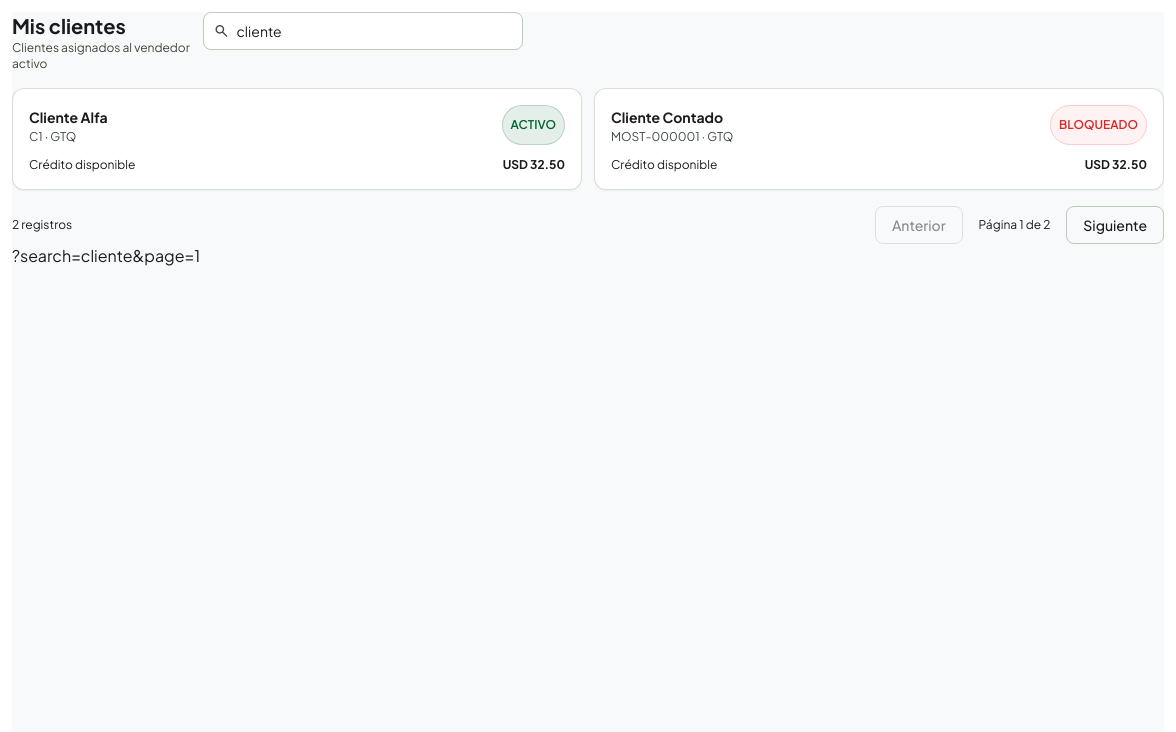
Test: ClientsPage search and customer details › shows loading addresses inside the selected customer
What coordinates should you click on to do the following:
click the button "Cliente Alfa C1 · GTQ ACTIVO Crédito disponible USD 32.50"
I would click on:
 (68, 117)
Its box is [12, 88, 582, 190].
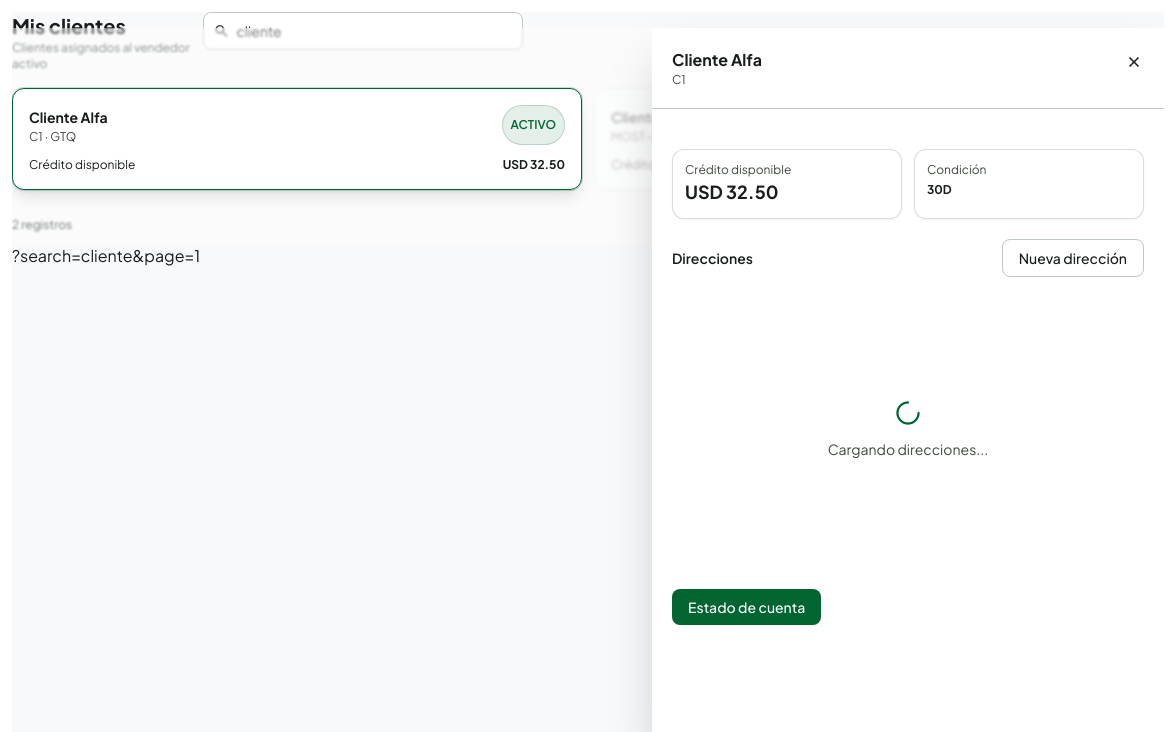
Now the text "Cargando direcciones..." is shown, box [828, 439, 988, 459]
